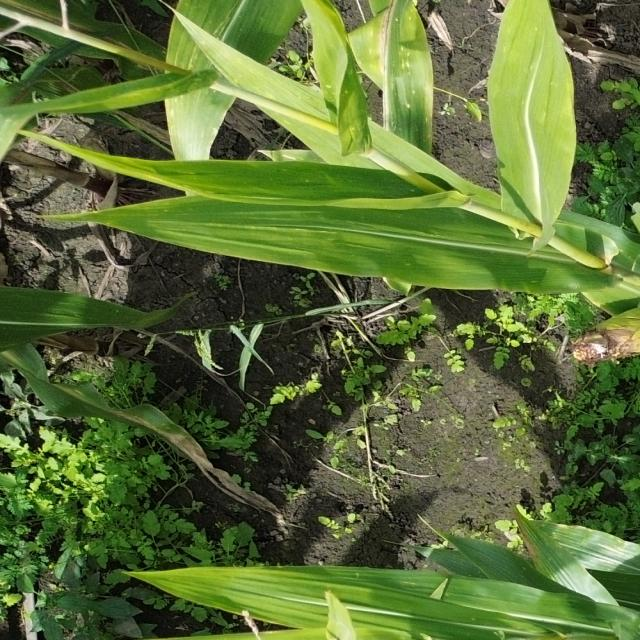gray-leaf-spot: (589, 534, 640, 574), (198, 3, 242, 47), (51, 384, 94, 417)
northern-leaf-blight: (371, 10, 413, 123)
southern-leaf-blight: (164, 74, 217, 138), (394, 42, 432, 116)
